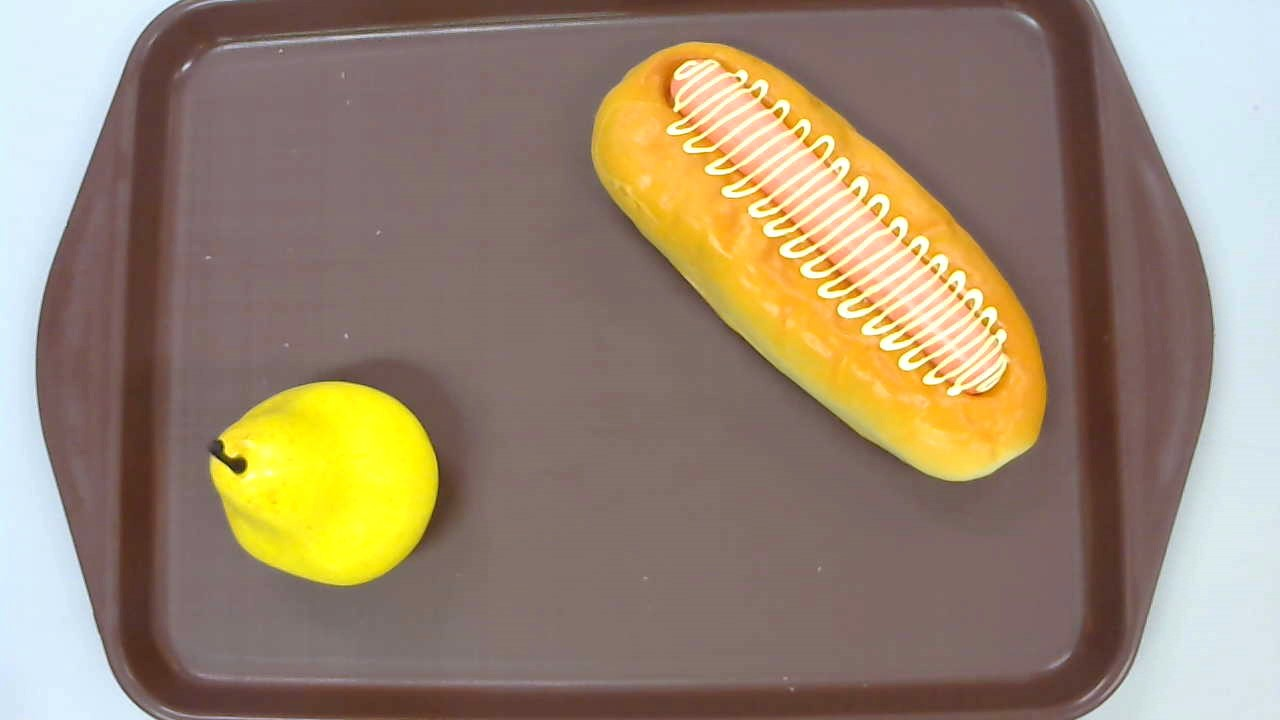hot dog: (590, 41, 1047, 482)
yellow pear: (206, 381, 440, 585)
